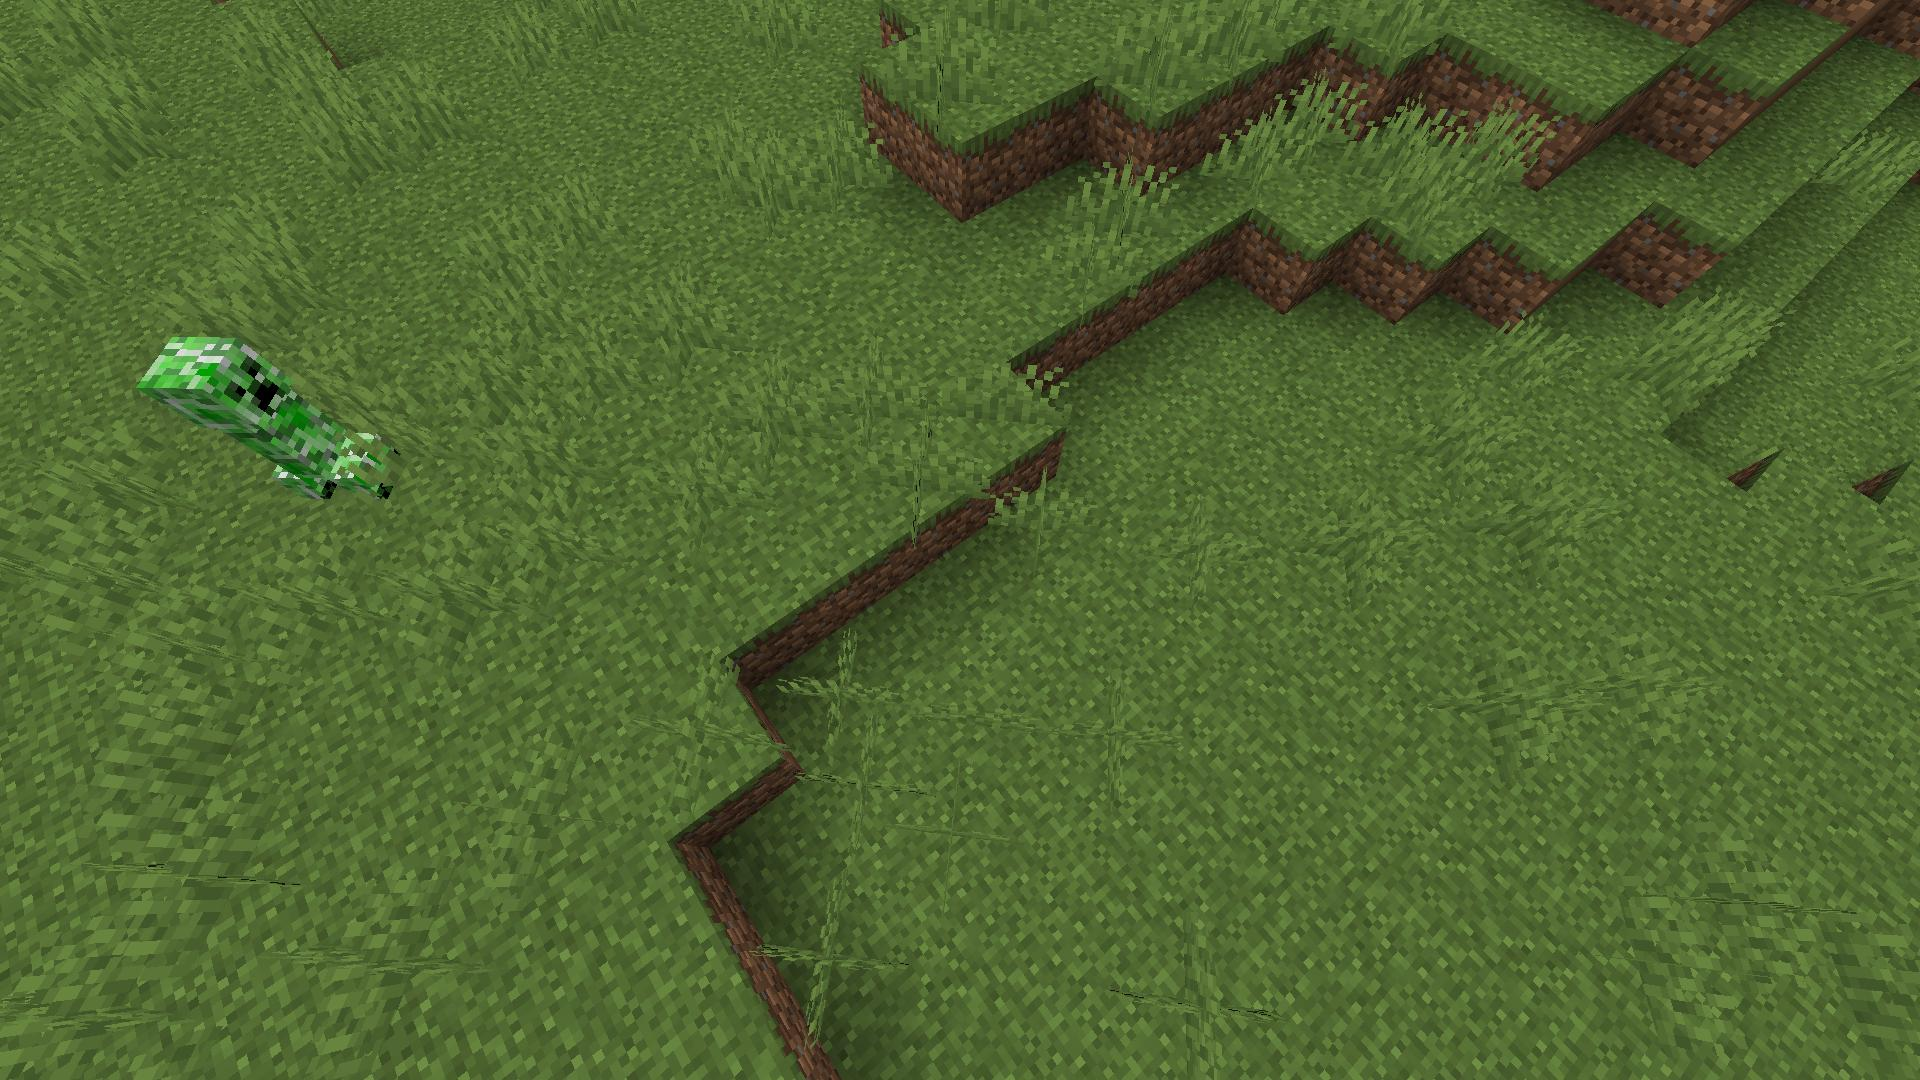creeper: (132, 313, 415, 516)
